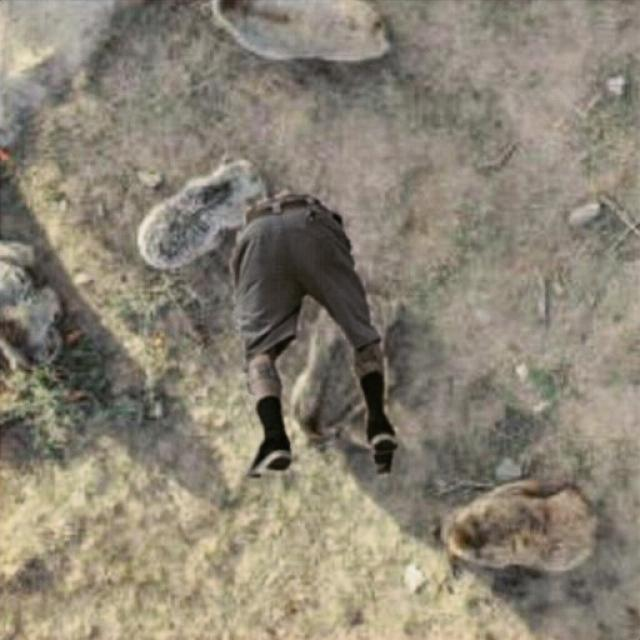Person in Rubble: (228, 195, 396, 476)
